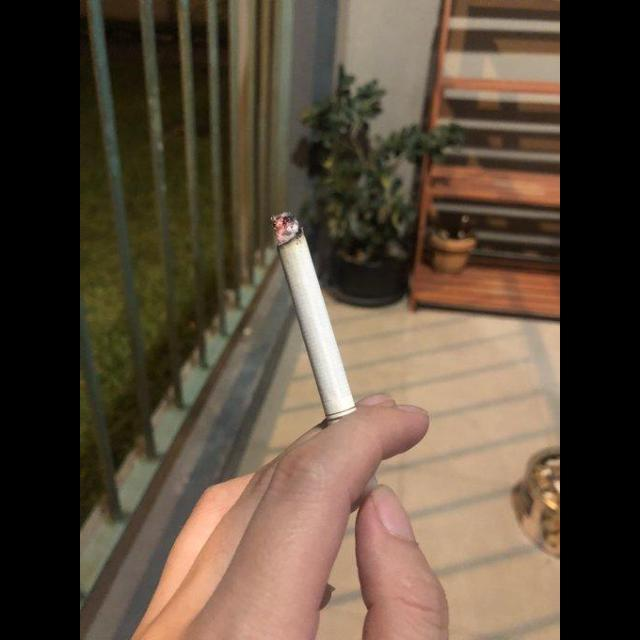rokok: (259, 206, 363, 424)
